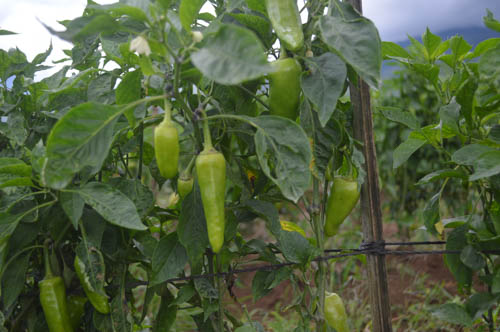ChiliPepper: (199, 153, 231, 256), (324, 179, 362, 239), (266, 57, 301, 121), (73, 254, 106, 314), (149, 124, 181, 175), (34, 281, 68, 329), (319, 291, 345, 329)
